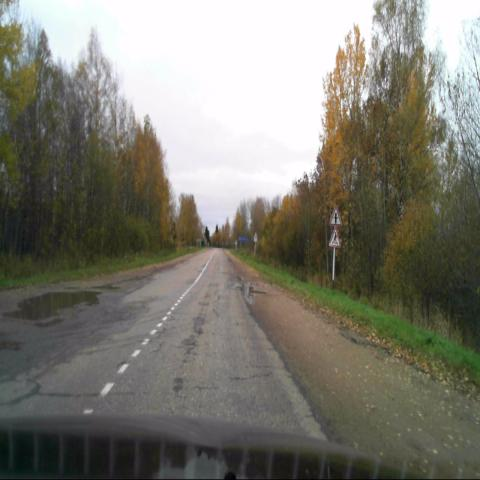2_3: (329, 205, 342, 226)
